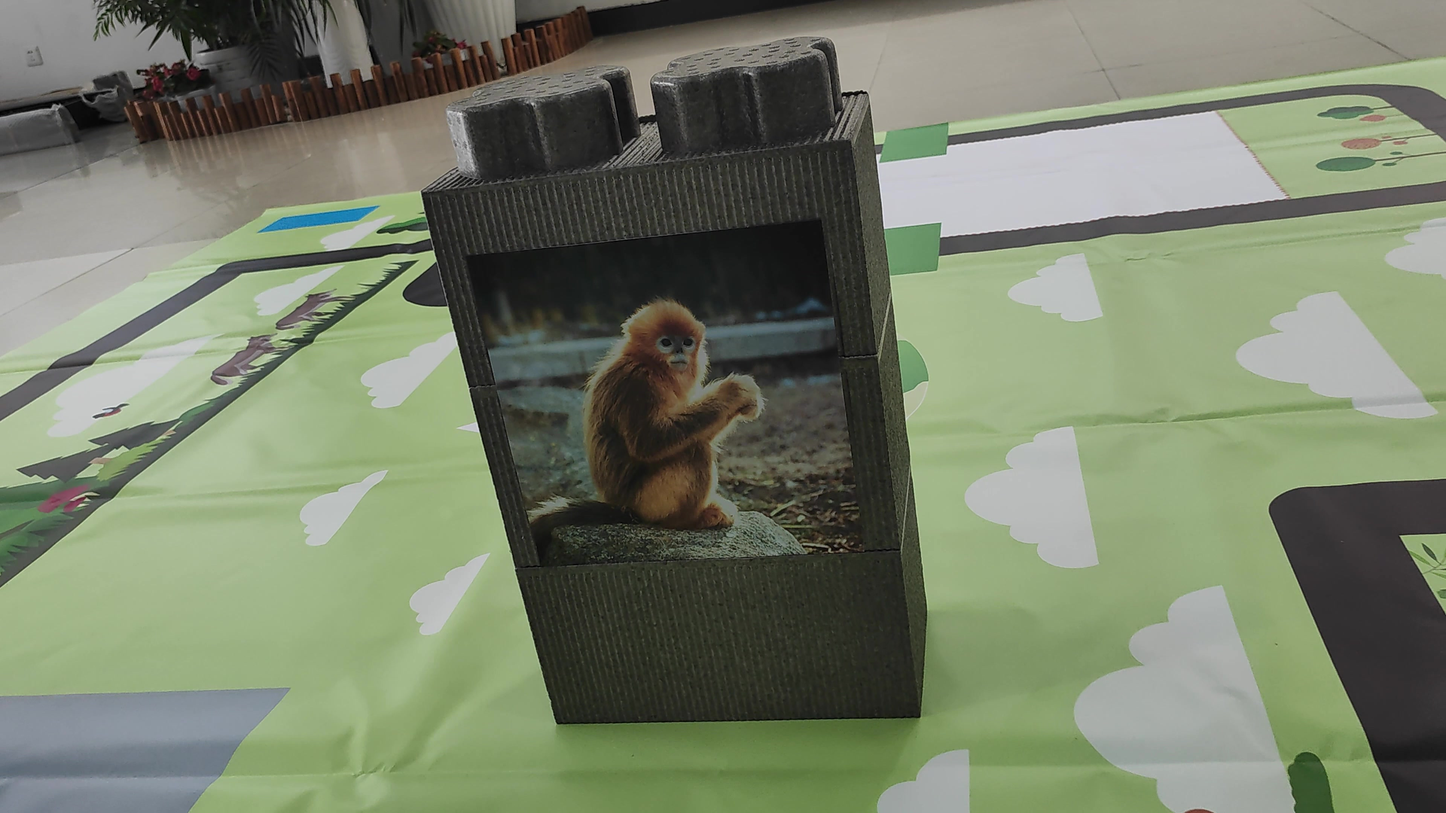monkey: (520, 266, 776, 551)
